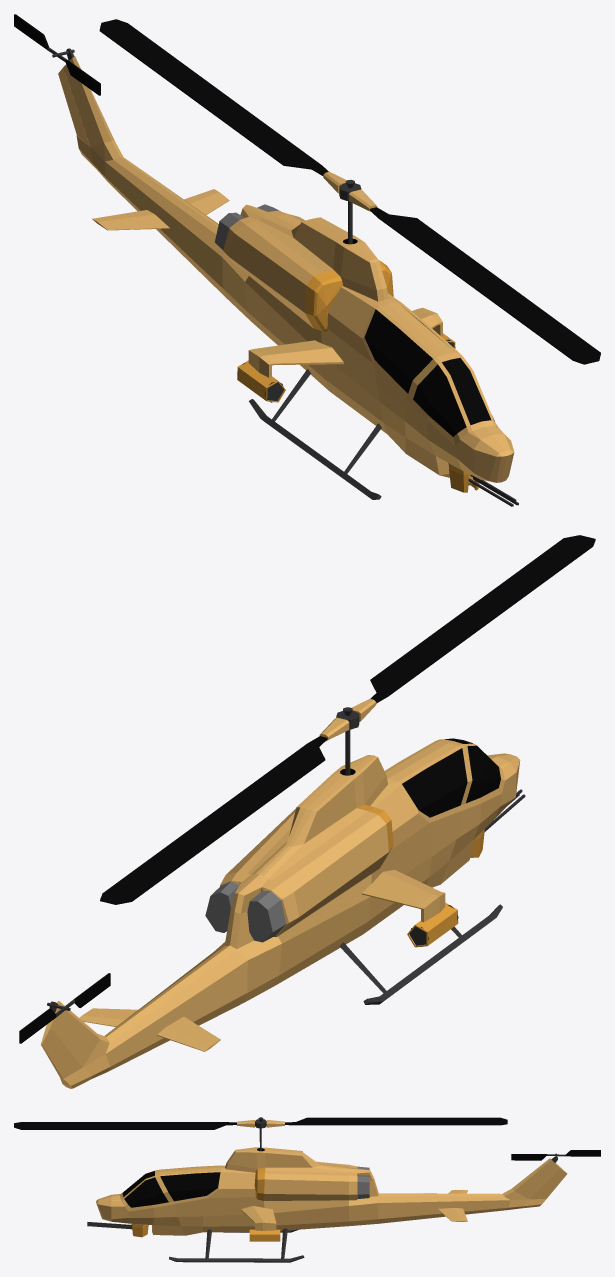
3 views of the same model, one above another, from view 1: azimuth 30°, elevation 25°; view 2: azimuth 150°, elevation 25°; view 3: azimuth 270°, elevation 25° (orthographic). The views are drawn at different scales.
Visible parts, largest first — view 1: Circle.036, Circle.040, Circle.043, Circle.041, Circle.037; view 2: Circle.036, Circle.040, Circle.043, Circle.041, Circle.037; view 3: Circle.036, Circle.040, Circle.044, Circle.041, Circle.037, Circle.039.
Boxes of the visible parts, x1,y1,x2,y2 form: Circle.036: [63, 48, 514, 499]; Circle.040: [99, 19, 600, 364]; Circle.043: [362, 305, 438, 410]; Circle.041: [14, 14, 100, 95]; Circle.037: [58, 67, 90, 147]; Circle.036: [46, 738, 520, 1088]; Circle.040: [100, 535, 595, 904]; Circle.043: [395, 745, 469, 844]; Circle.041: [19, 973, 110, 1043]; Circle.037: [41, 1026, 82, 1078]; Circle.036: [96, 1147, 560, 1262]; Circle.040: [14, 1117, 507, 1151]; Circle.044: [158, 1170, 222, 1210]; Circle.041: [511, 1150, 600, 1160]; Circle.037: [530, 1167, 567, 1199]; Circle.039: [87, 1222, 132, 1229].
Size of the model in its own units: 352 by 433 by 1780.
